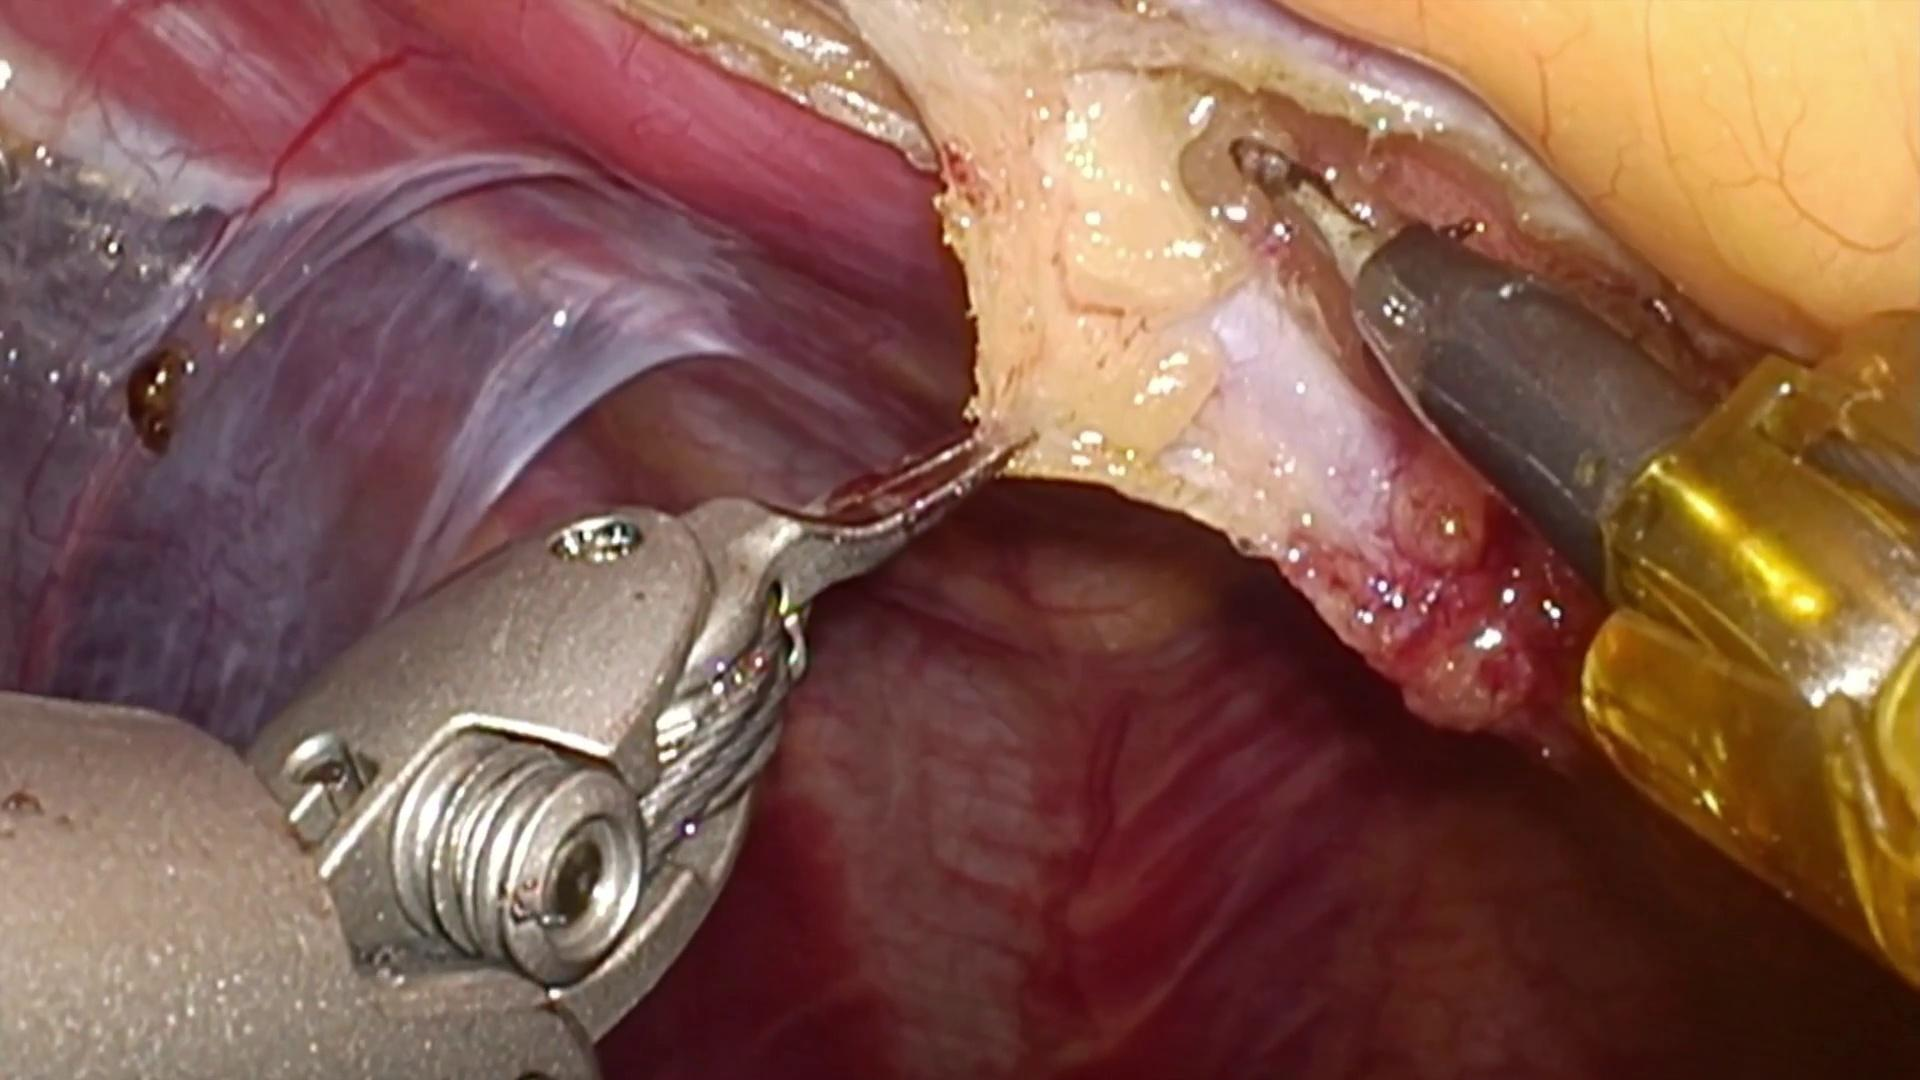Cautery_Spatula: (1240, 145, 1726, 620)
Debakey: (688, 368, 1052, 642)
